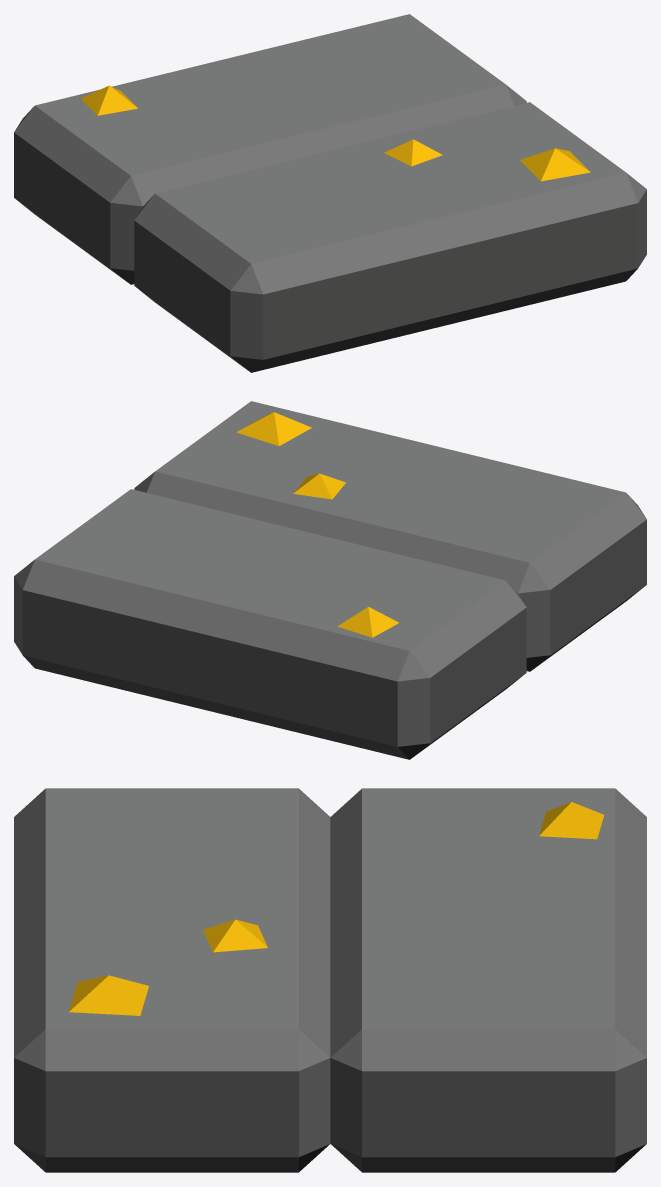
Rendered from m_kub_ore_flatTwoBrick.FBX.
3 views of the same model, one above another, from view 1: azimuth 30°, elevation 25°; view 2: azimuth 150°, elevation 25°; view 3: azimuth 270°, elevation 25° (orthographic). The views are drawn at different scales.
Visible parts, largest first — view 1: m_kub_ore_flatTwoBrick; view 2: m_kub_ore_flatTwoBrick; view 3: m_kub_ore_flatTwoBrick.
Part boxes in pixels (x1=…): m_kub_ore_flatTwoBrick: x1=14, y1=14, x2=646, y2=372; m_kub_ore_flatTwoBrick: x1=14, y1=401, x2=646, y2=759; m_kub_ore_flatTwoBrick: x1=14, y1=788, x2=646, y2=1172.
Bounding box in the file's own units: 2 × 0.5826 × 2.
